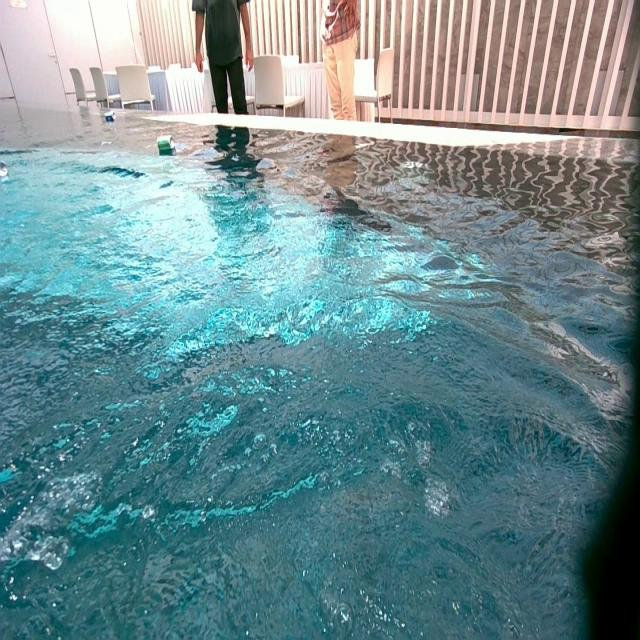Cans: (158, 137, 175, 154), (0, 162, 8, 180), (105, 112, 116, 122)
